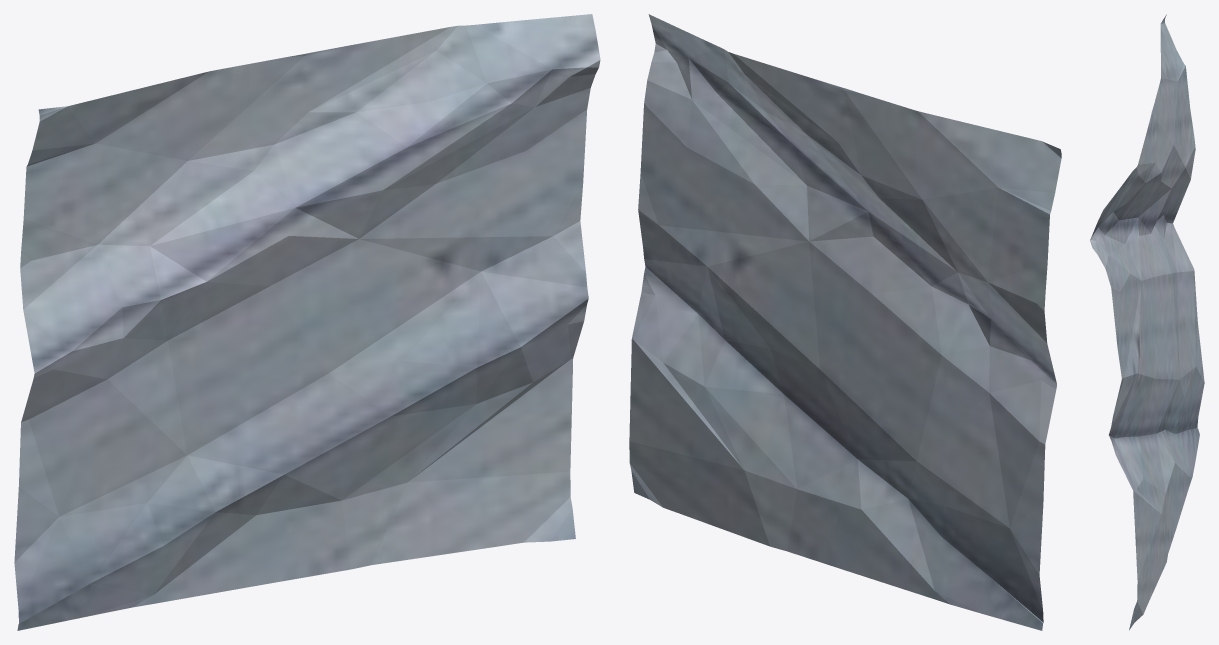
The model's file is Tile_+004_+007_L24_0020233.obj.
3 views of the same model, side by side, from view 1: azimuth 30°, elevation 25°; view 2: azimuth 150°, elevation 25°; view 3: azimuth 270°, elevation 25° (orthographic). The views are drawn at different scales.
Bounding box in the file's own units: 0.9531 × 0.9531 × 0.2347.
1 material, 1 textured.
